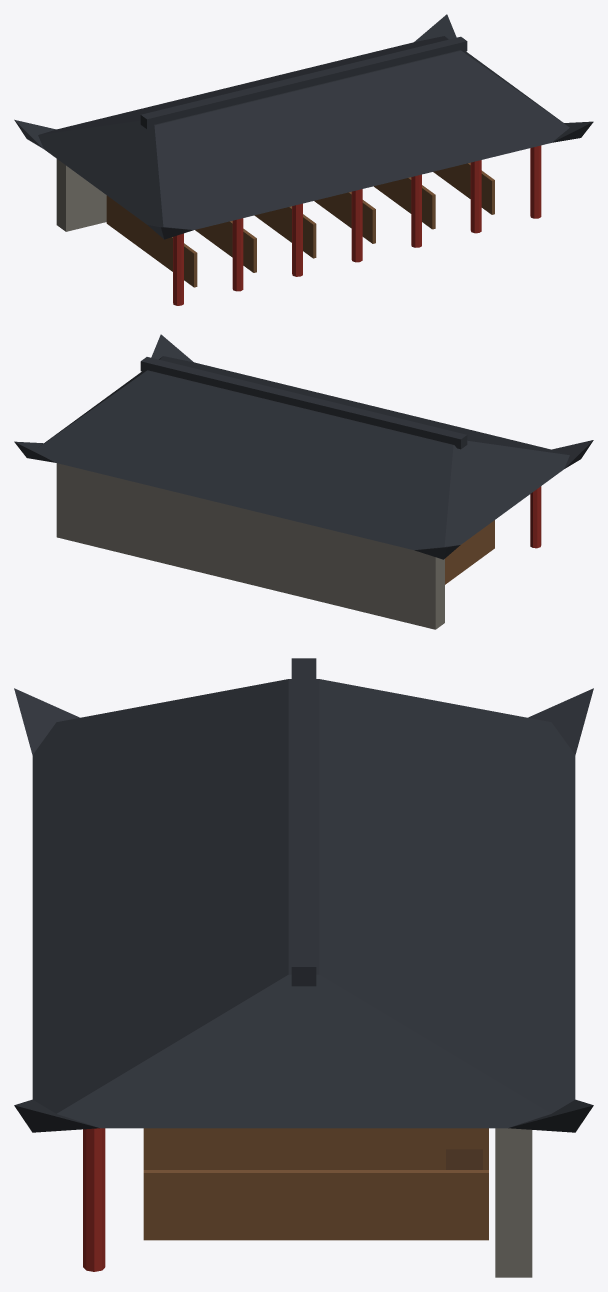
File: stable.glb
3 renders of one model, top to bottom at view 1: azimuth 30°, elevation 25°; view 2: azimuth 150°, elevation 25°; view 3: azimuth 270°, elevation 25°, orthographic. The views are drawn at different scales.
Parts seen in each view (by area): view 1: Stable; view 2: Stable; view 3: Stable.
Part boxes in pixels (x1,y1,x2,y2): Stable: (14, 14, 593, 305); Stable: (14, 334, 593, 629); Stable: (14, 658, 593, 1277).
Size of the model in its own units: 16 by 5.06 by 9.4.
